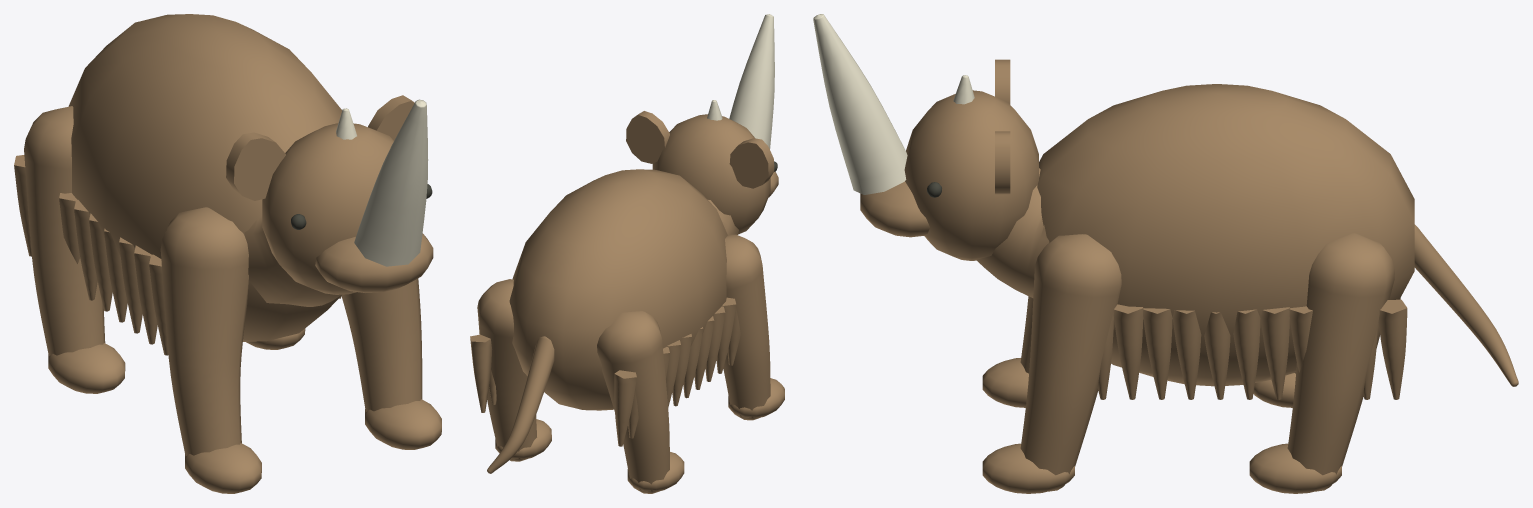
The model's file is dinosaurs-and-prehistoric-life-woolly-rhinoceros-4e3805ca__4917.glb.
3 views of the same model, side by side, from view 1: azimuth 30°, elevation 25°; view 2: azimuth 150°, elevation 25°; view 3: azimuth 270°, elevation 25° (orthographic). The views are drawn at different scales.
Parts seen in each view (by area): view 1: woolly-rhinoceros; view 2: woolly-rhinoceros; view 3: woolly-rhinoceros.
Boxes of the visible parts, box(x1,y1,x2,y2) form: woolly-rhinoceros: box(14, 14, 441, 493); woolly-rhinoceros: box(470, 14, 784, 493); woolly-rhinoceros: box(813, 14, 1518, 493).
Bounding box in the file's own units: 1.43 × 2.5 × 3.7.
